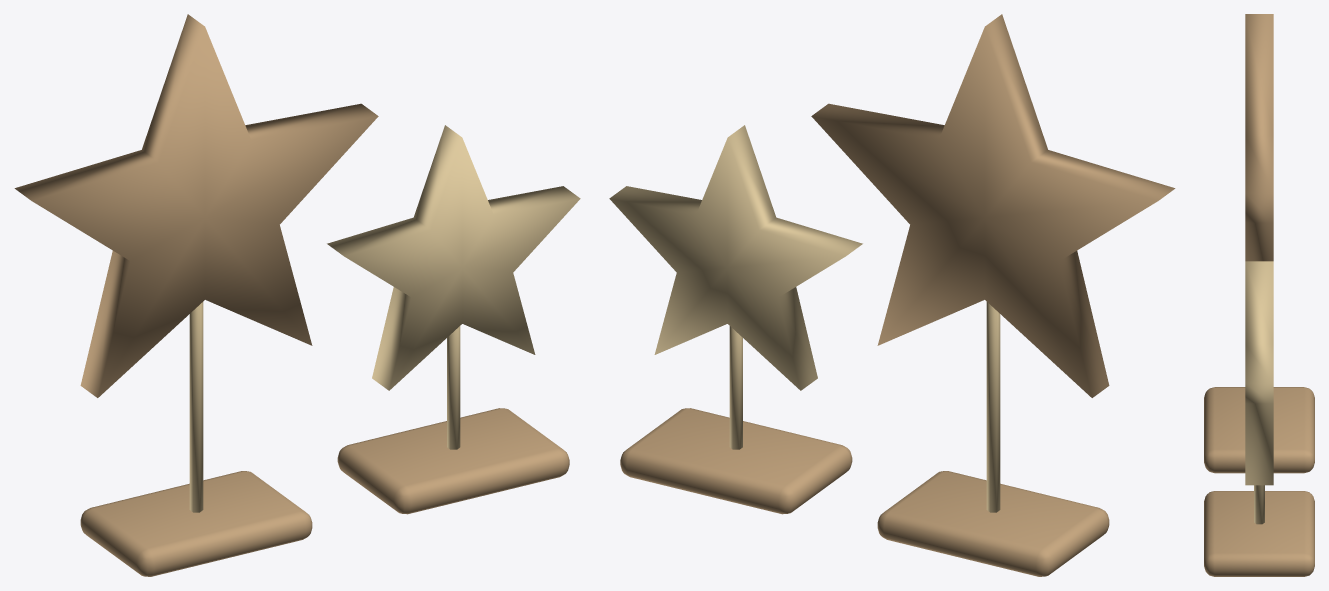
Rendered from wooden_stars.glb.
3 views of the same model, side by side, from view 1: azimuth 30°, elevation 25°; view 2: azimuth 150°, elevation 25°; view 3: azimuth 270°, elevation 25° (orthographic). The views are drawn at different scales.
Parts seen in each view (by area): view 1: wooden_stars__body, wooden_stars__accent; view 2: wooden_stars__body, wooden_stars__accent; view 3: wooden_stars__body, wooden_stars__accent.
Boxes of the visible parts, <box> form: wooden_stars__body: <box>14,14,569,576</box>; wooden_stars__accent: <box>189,125,580,512</box>; wooden_stars__body: <box>620,14,1175,576</box>; wooden_stars__accent: <box>609,125,1000,512</box>; wooden_stars__body: <box>1204,14,1314,576</box>; wooden_stars__accent: <box>1245,261,1273,524</box>.
Size of the model in its own units: 0.3309 by 0.298 by 0.07.
